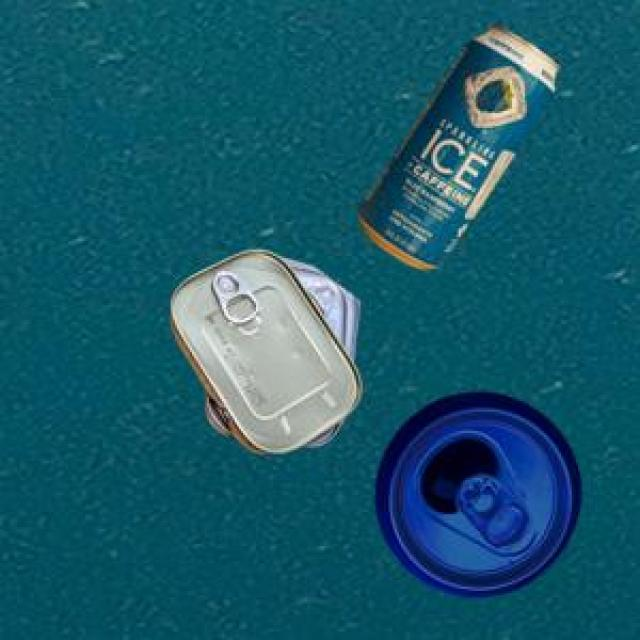logam: (355, 22, 556, 266), (372, 389, 577, 594), (167, 246, 357, 451)
